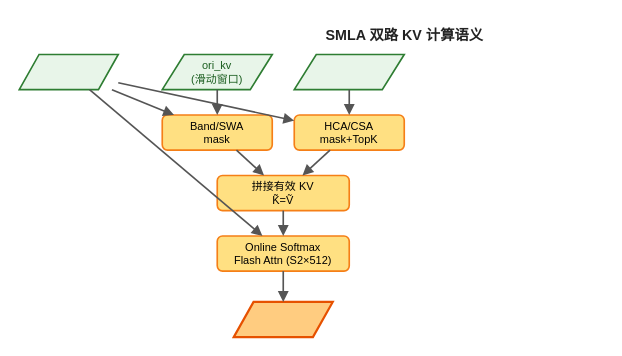
Some shapes in this 622 by 356 pixel diagram are drawn without their labels. Here are the shapes that lost their labels. From the top down, the centre of each, then its label:
At point (68, 71): "q[m,d]".
At point (349, 71): "cmp_kv (压缩历史)".
At point (282, 319): "O[m,d]".
